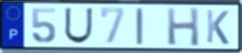5: (31, 7, 58, 44)
7: (98, 6, 130, 47)
H: (165, 7, 201, 48)
I: (134, 7, 145, 46)
K: (205, 9, 231, 46)
U: (63, 7, 95, 45)
